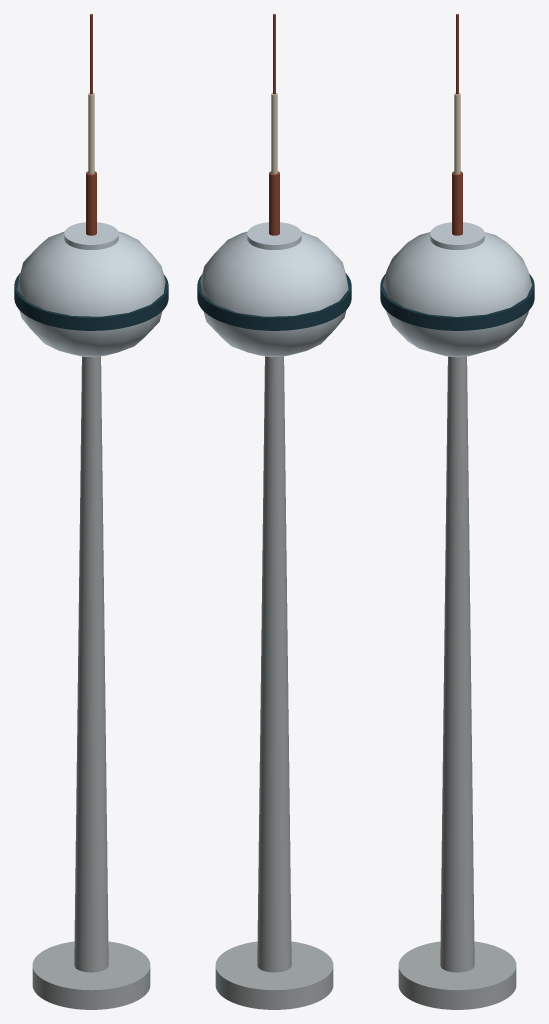
Rendered from tv-tower.glb.
3 renders of one model, left to right at view 1: azimuth 30°, elevation 25°; view 2: azimuth 150°, elevation 25°; view 3: azimuth 270°, elevation 25°, orthographic.
Parts seen in each view (by area): view 1: DC_Mesh_DC_Concrete, DC_Mesh_DC_Silver, DC_Mesh_DC_BlueGlass, DC_Mesh_DC_Terracotta, DC_Mesh_DC_Ivory; view 2: DC_Mesh_DC_Concrete, DC_Mesh_DC_Silver, DC_Mesh_DC_BlueGlass, DC_Mesh_DC_Terracotta, DC_Mesh_DC_Ivory; view 3: DC_Mesh_DC_Concrete, DC_Mesh_DC_Silver, DC_Mesh_DC_BlueGlass, DC_Mesh_DC_Terracotta, DC_Mesh_DC_Ivory.
Part boxes in pixels (x1,y1,x2,y2): DC_Mesh_DC_Concrete: (32,356,150,1009); DC_Mesh_DC_Silver: (17,222,165,357); DC_Mesh_DC_BlueGlass: (14,273,168,330); DC_Mesh_DC_Terracotta: (86,14,96,235); DC_Mesh_DC_Ivory: (88,92,94,174); DC_Mesh_DC_Concrete: (215,356,333,1009); DC_Mesh_DC_Silver: (200,222,348,357); DC_Mesh_DC_BlueGlass: (197,273,351,330); DC_Mesh_DC_Terracotta: (269,14,279,235); DC_Mesh_DC_Ivory: (271,92,277,174); DC_Mesh_DC_Concrete: (398,356,516,1009); DC_Mesh_DC_Silver: (382,222,532,357); DC_Mesh_DC_BlueGlass: (380,274,534,330); DC_Mesh_DC_Terracotta: (452,14,462,235); DC_Mesh_DC_Ivory: (454,92,460,174).
Bounding box in the file's own units: 7.06 × 49 × 7.06.
